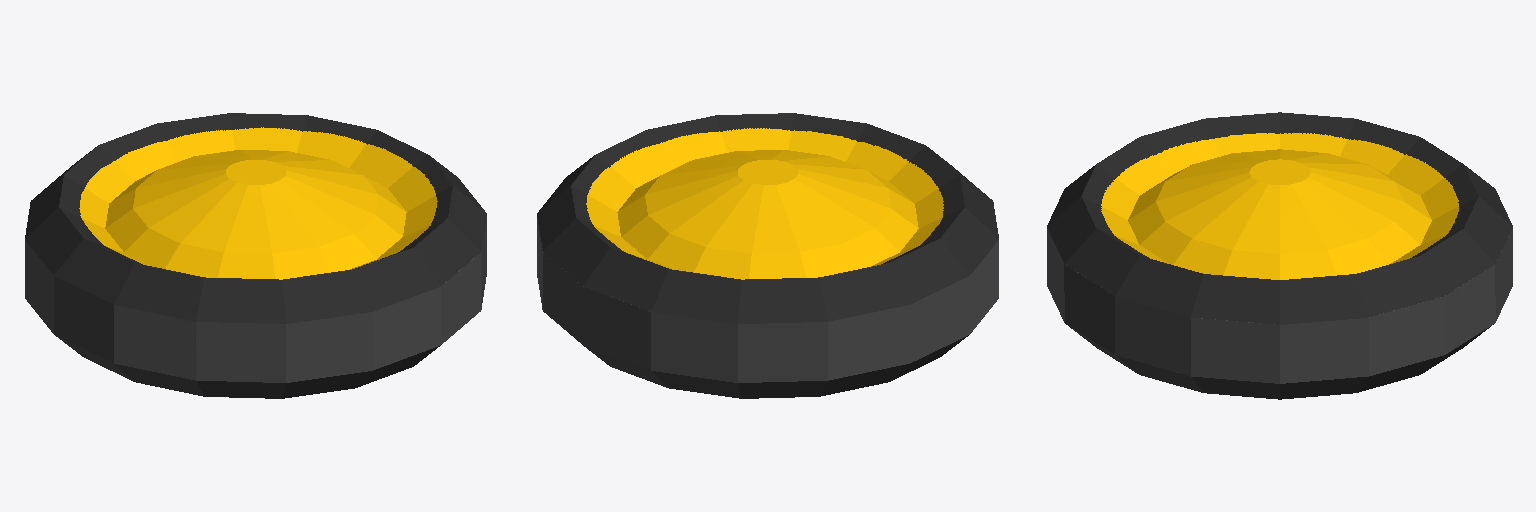
3 views of the same model, side by side, from view 1: azimuth 30°, elevation 25°; view 2: azimuth 150°, elevation 25°; view 3: azimuth 270°, elevation 25° (orthographic).
Visible parts, largest first — view 1: wheel_Cylinder.004; view 2: wheel_Cylinder.004; view 3: wheel_Cylinder.004.
Part boxes in pixels (bbox=[...]): wheel_Cylinder.004: bbox=[25, 113, 486, 398]; wheel_Cylinder.004: bbox=[537, 113, 998, 398]; wheel_Cylinder.004: bbox=[1047, 112, 1512, 399].
Bounding box in the file's own units: 1.64 × 0.6499 × 1.64.
Materials: 1 (1 with a texture image).